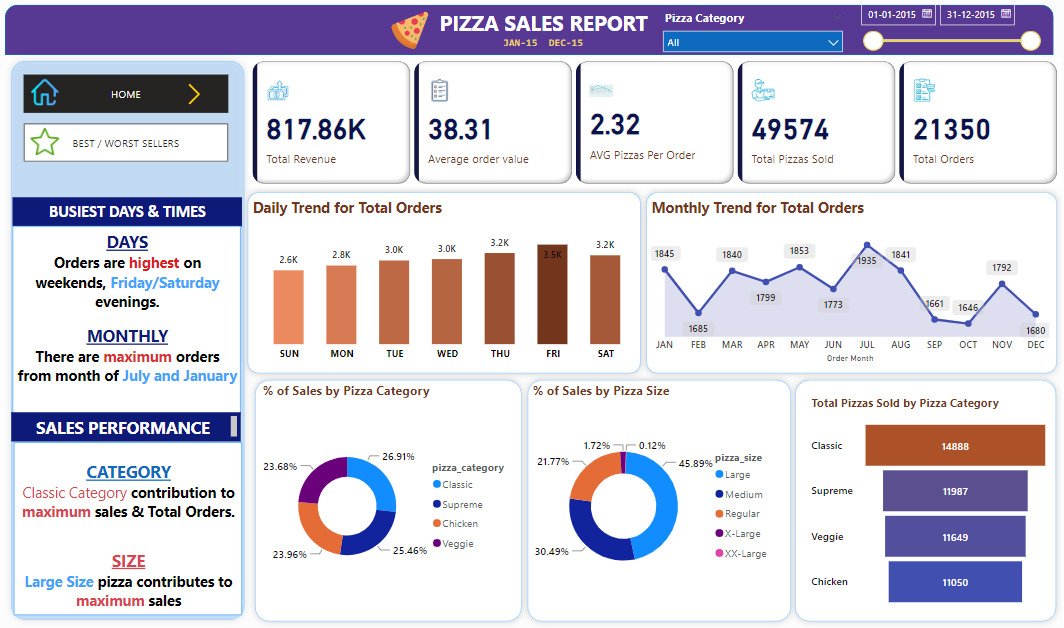

What the dashboard file says about the page in this screenshot:
{"tool":"powerbi","page":{"name":"HOME","canvas":[1500,820],"ordinal":0},"visuals":[{"type":"shape","box":[78,75.2,316,735.1],"z":0},{"type":"cardVisual","fields":{"Data":["pizza_sales.Total Revenue","pizza_sales.Average order value","pizza_sales.AVG Pizzas Per Order","pizza_sales.Total Pizzas Sold","pizza_sales.Total Orders"]},"box":[390.8,78.8,1045.2,168.8],"z":1000},{"type":"shape","box":[76.5,11.8,1349,64.7],"z":2000},{"type":"textbox","box":[613.6,11.4,311.4,45.5],"z":3000},{"type":"textbox","box":[680.7,44.3,178.4,34.1],"z":4000},{"type":"image","box":[551.1,14.8,93.2,59.1],"z":5000},{"type":"shape","box":[381.5,243.6,522.1,249.2],"z":6000},{"type":"columnChart","title":"Daily Trend for Total Orders","fields":{"Category":["pizza_sales.Order Date"],"Y":["pizza_sales.Total Orders"]},"box":[391.2,258.9,512.3,218.6],"z":7000},{"type":"shape","box":[893.8,243.6,544.3,249.2],"z":8000},{"type":"areaChart","title":"Monthly Trend for Total Orders ","fields":{"Y":["pizza_sales.Total Orders"],"Category":["pizza_sales.Order Month"]},"box":[903.5,258.9,522.1,218.6],"z":9000},{"type":"shape","box":[391.2,485.9,359.2,327.2],"z":10000},{"type":"shape","box":[740.6,485.9,355,327.2],"z":11000},{"type":"textbox","box":[86.3,258.9,295.1,37.6],"z":12000},{"type":"shape","box":[1085.9,485.9,352.2,327.2],"z":13000},{"type":"donutChart","title":"% of Sales by Pizza Category","fields":{"Category":["pizza_sales.pizza_category"],"Y":["pizza_sales.Total Revenue"]},"box":[403.7,495.6,336.9,300.7],"z":14000},{"type":"donutChart","title":"% of Sales by Pizza Size","fields":{"Y":["pizza_sales.Total Revenue"],"Category":["pizza_sales.pizza_size"]},"box":[750.4,495.6,324.4,300.7],"z":15000},{"type":"funnel","title":"Total Pizzas Sold by Pizza Category","fields":{"Category":["pizza_sales.pizza_category"],"Y":["pizza_sales.Total Pizzas Sold"]},"box":[1109.6,512.3,316,284],"z":16000},{"type":"textbox","box":[86.3,296.5,293.8,242.2],"z":16001},{"type":"textbox","box":[87.7,573.6,293.8,222.8],"z":16002},{"type":"textbox","box":[84.9,536,295.1,37.6],"z":16003},{"type":"slicer","fields":{"Values":["pizza_sales.pizza_category"]},"box":[913.3,12.5,252,62.6],"z":16004},{"type":"slicer","fields":{"Values":["pizza_sales.order_date"]},"box":[1165.3,0,252,73.8],"z":16005},{"type":"pageNavigator","box":[101.3,101.3,263.7,49.9],"z":16006},{"type":"pageNavigator","box":[101.3,164,263.7,49.9],"z":16007},{"type":"image","box":[291.1,107.7,59.5,37],"z":16008},{"type":"image","box":[88.4,101.3,80.4,45],"z":16009},{"type":"image","box":[88.4,164,80.4,46.6],"z":16010}]}

Visuals, with their boxes on the page's 1500x820 design canvas (x1, y1, x2, y2). These are canvas units, not pixel positions in the 1064x628 screenshot, which may show the page scaled, cropped or inside an application window:
shape: <region>78, 75, 394, 810</region>
cardVisual - pizza_sales.Total Revenue x pizza_sales.Average order value: <region>391, 79, 1436, 248</region>
shape: <region>76, 12, 1426, 76</region>
textbox: <region>614, 11, 925, 57</region>
textbox: <region>681, 44, 859, 78</region>
image: <region>551, 15, 644, 74</region>
shape: <region>382, 244, 904, 493</region>
"Daily Trend for Total Orders" columnChart: <region>391, 259, 904, 478</region>
shape: <region>894, 244, 1438, 493</region>
"Monthly Trend for Total Orders " areaChart: <region>904, 259, 1426, 478</region>
shape: <region>391, 486, 750, 813</region>
shape: <region>741, 486, 1096, 813</region>
textbox: <region>86, 259, 381, 296</region>
shape: <region>1086, 486, 1438, 813</region>
"% of Sales by Pizza Category" donutChart: <region>404, 496, 741, 796</region>
"% of Sales by Pizza Size" donutChart: <region>750, 496, 1075, 796</region>
"Total Pizzas Sold by Pizza Category" funnel: <region>1110, 512, 1426, 796</region>
textbox: <region>86, 296, 380, 539</region>
textbox: <region>88, 574, 382, 796</region>
textbox: <region>85, 536, 380, 574</region>
slicer - pizza_sales.pizza_category: <region>913, 12, 1165, 75</region>
slicer - pizza_sales.order_date: <region>1165, 0, 1417, 74</region>
pageNavigator: <region>101, 101, 365, 151</region>
pageNavigator: <region>101, 164, 365, 214</region>
image: <region>291, 108, 351, 145</region>
image: <region>88, 101, 169, 146</region>
image: <region>88, 164, 169, 211</region>
